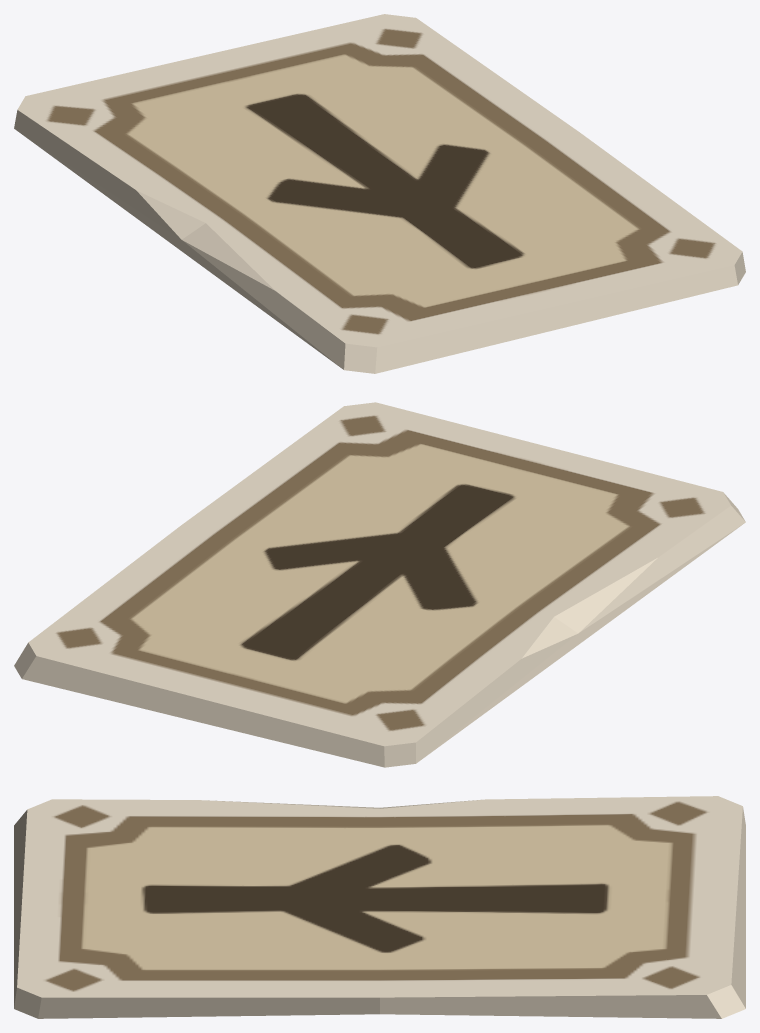
The model's file is SM_Prop_Tarot_Card_11.fbx.
The picture shows the model from 3 angles, top to bottom: view 1: azimuth 30°, elevation 25°; view 2: azimuth 150°, elevation 25°; view 3: azimuth 270°, elevation 25°; orthographic projection. The views are drawn at different scales.
Visible parts, largest first — view 1: SM_Prop_Tarot_Card_11; view 2: SM_Prop_Tarot_Card_11; view 3: SM_Prop_Tarot_Card_11.
Part boxes in pixels (<box>): SM_Prop_Tarot_Card_11: <box>14,14,745,373</box>; SM_Prop_Tarot_Card_11: <box>14,402,745,767</box>; SM_Prop_Tarot_Card_11: <box>14,796,745,1018</box>.
Size of the model in its own units: 13.22 by 0.62 by 20.12.
